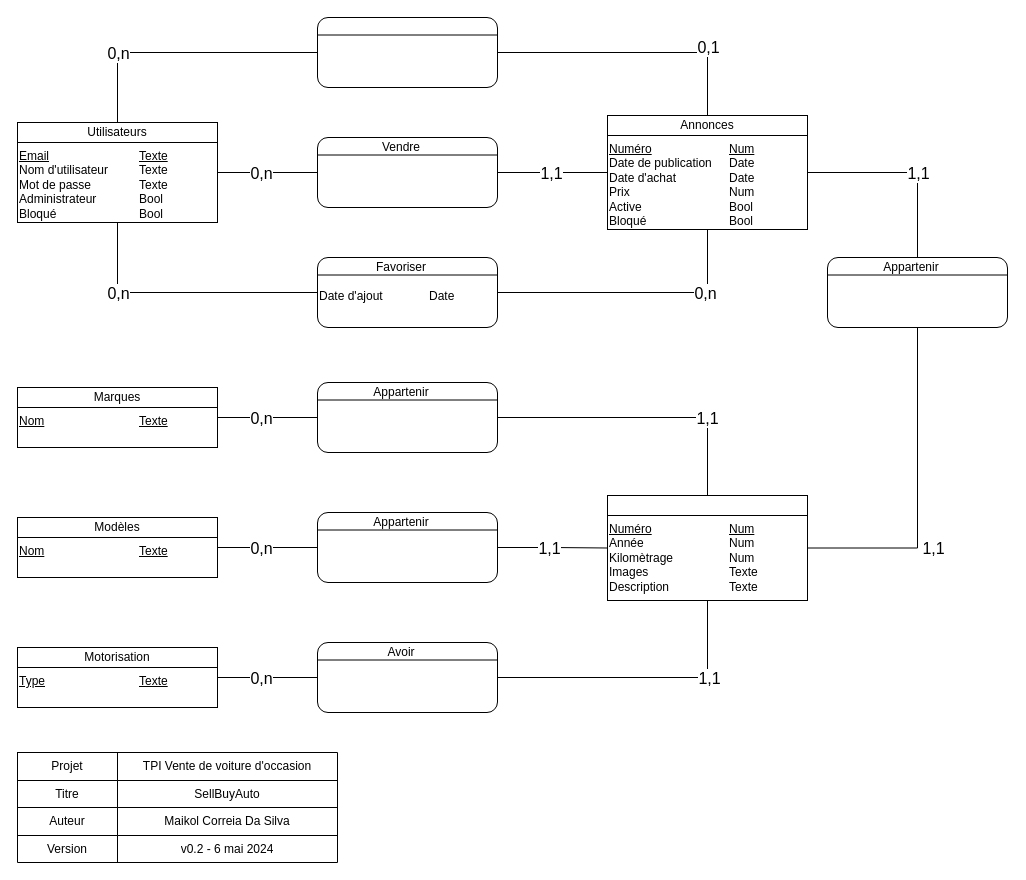
Some shapes in this 1026 by 880 pixel diagram are drawn without their labels. Here are the shapes that lost their labels. From the top down, the box of each, then its label:
(316, 16, 498, 88): Acheter
(606, 494, 808, 516): Voitures
